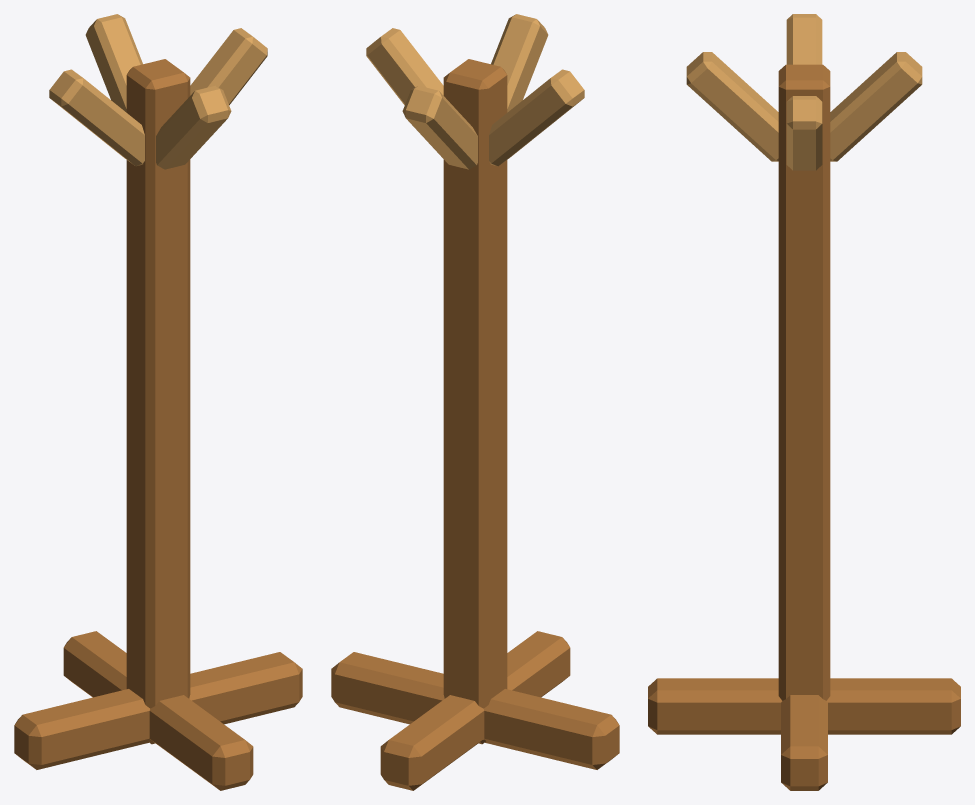
The model's file is CoatRack.fbx.
3 views of the same model, side by side, from view 1: azimuth 30°, elevation 25°; view 2: azimuth 150°, elevation 25°; view 3: azimuth 270°, elevation 25° (orthographic).
Visible parts, largest first — view 1: Body; view 2: Body; view 3: Body.
Part boxes in pixels (bbox=[...]): Body: bbox=[14, 14, 302, 790]; Body: bbox=[331, 14, 619, 790]; Body: bbox=[648, 14, 960, 790].
Size of the model in its own units: 0.7 by 1.66 by 0.7.
